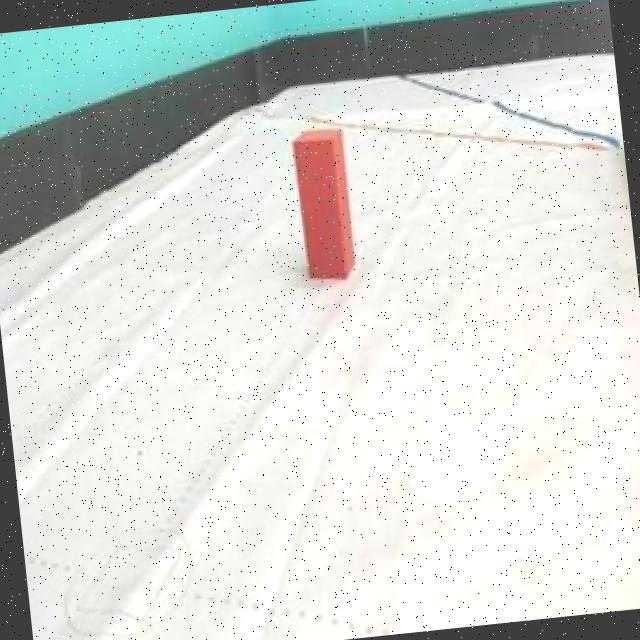redbox: (290, 122, 356, 284)
